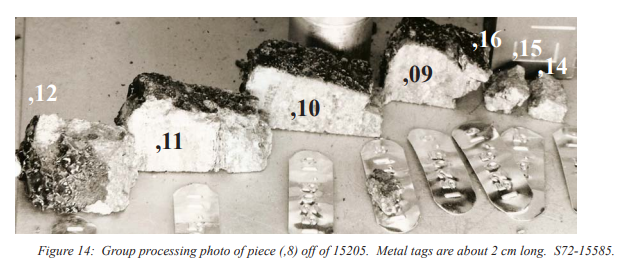Breccia: (132, 70, 273, 193), (250, 43, 400, 138), (19, 88, 131, 215), (401, 26, 482, 104), (499, 59, 563, 120)
